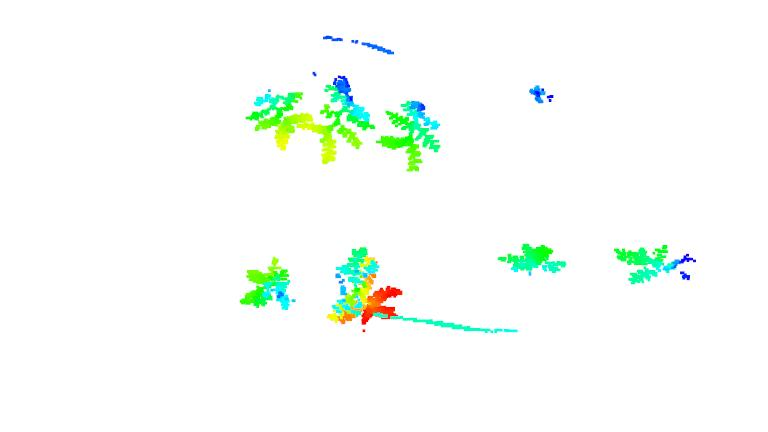chickpea: (309, 73, 374, 163), (331, 248, 404, 327), (377, 98, 444, 173), (245, 88, 315, 152), (612, 243, 695, 286), (237, 256, 296, 315), (498, 243, 570, 279)
